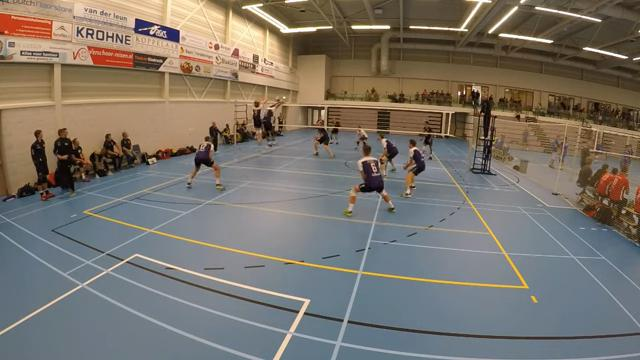muro: (261, 93, 282, 150), (247, 91, 266, 148)
